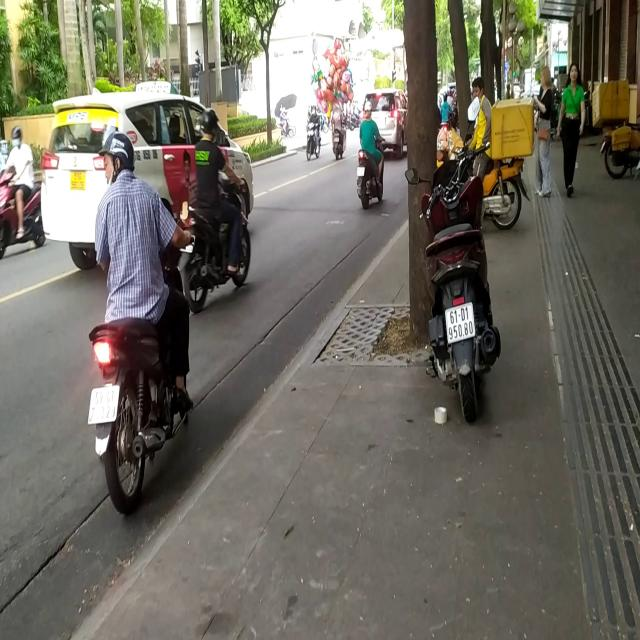bien_trang: (441, 300, 475, 347)
